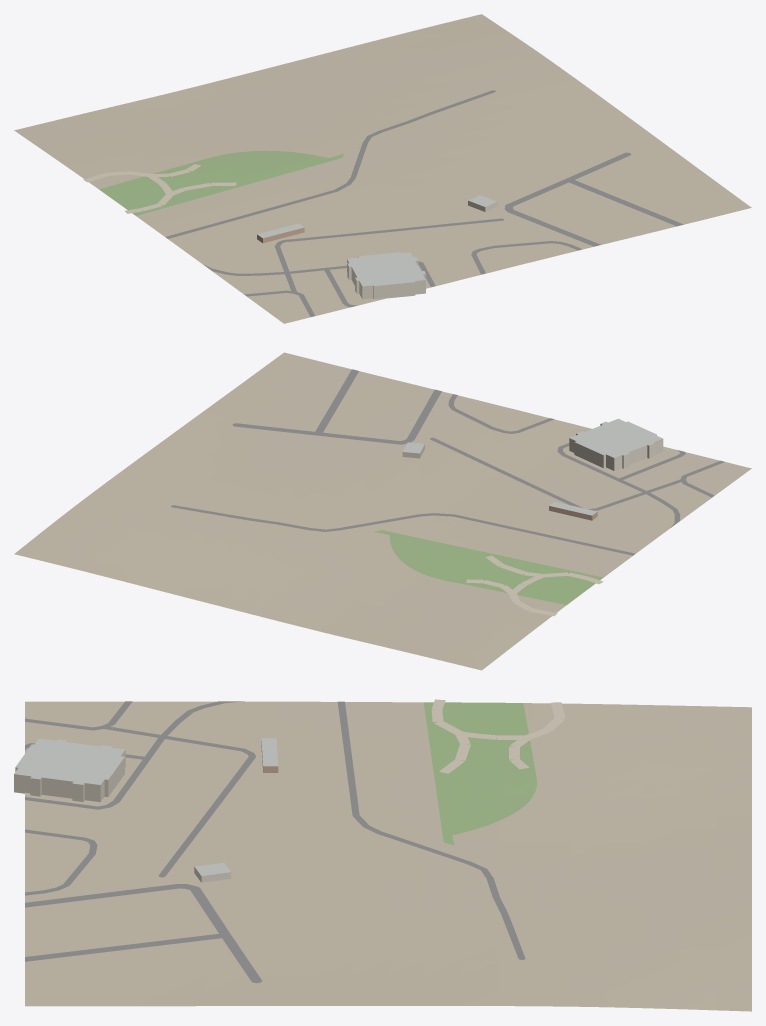
Rendered from bolak_-7_-19.glb.
3 renders of one model, top to bottom at view 1: azimuth 30°, elevation 25°; view 2: azimuth 150°, elevation 25°; view 3: azimuth 270°, elevation 25°, orthographic. The views are drawn at different scales.
Parts seen in each view (by area): view 1: Yer_Tuproq-col, Yer_Maysa, Yol_Mahalla-col, Tom_Shifer, Devor_Suvoq-col, Yol_Piyoda; view 2: Yer_Tuproq-col, Yer_Maysa, Yol_Mahalla-col, Tom_Shifer, Devor_Suvoq-col, Yol_Piyoda; view 3: Yer_Tuproq-col, Yer_Maysa, Yol_Mahalla-col, Tom_Shifer, Devor_Suvoq-col, Yol_Piyoda.
Boxes of the visible parts, <box> form: Yer_Tuproq-col: <box>14,14,751,323</box>; Yer_Maysa: <box>99,150,343,215</box>; Yol_Mahalla-col: <box>165,90,683,316</box>; Tom_Shifer: <box>257,195,496,286</box>; Devor_Suvoq-col: <box>347,200,497,299</box>; Yol_Piyoda: <box>83,164,236,213</box>; Yer_Tuproq-col: <box>14,352,751,670</box>; Yer_Maysa: <box>373,530,603,604</box>; Yol_Mahalla-col: <box>171,369,724,555</box>; Tom_Shifer: <box>403,418,662,515</box>; Devor_Suvoq-col: <box>402,424,663,470</box>; Yol_Piyoda: <box>466,555,603,616</box>; Yer_Tuproq-col: <box>25,701,751,1011</box>; Yer_Maysa: <box>423,702,536,845</box>; Yol_Mahalla-col: <box>25,701,525,983</box>; Tom_Shifer: <box>14,738,278,875</box>; Devor_Suvoq-col: <box>14,741,231,882</box>; Yol_Piyoda: <box>431,699,565,773</box>.
Size of what is drawn, in the model's own units: 404 by 14.86 by 406.
